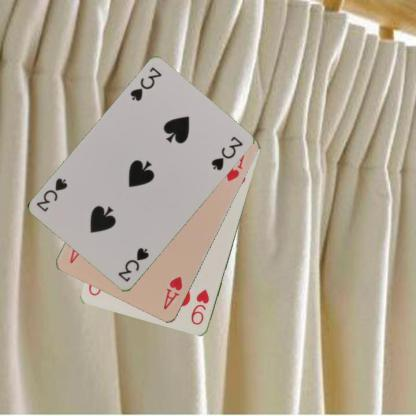3s: (115, 245, 150, 284), (128, 65, 163, 103)
9h: (188, 286, 211, 326)
Ah: (160, 274, 184, 311)
